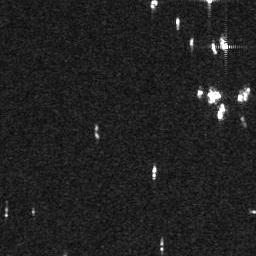ship: (216, 103, 227, 120), (220, 36, 230, 51), (211, 42, 218, 55), (151, 164, 157, 179), (175, 17, 181, 30), (149, 1, 159, 8), (190, 36, 194, 48)
